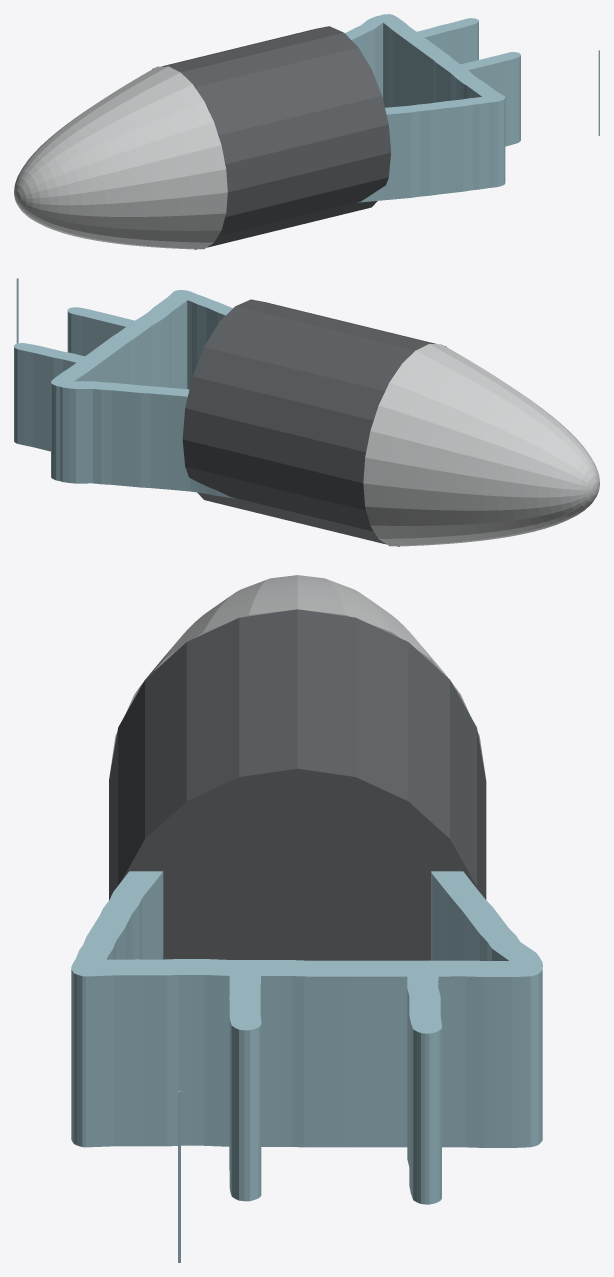
The model's file is Funky Migelo.glb.
The picture shows the model from 3 angles, top to bottom: view 1: azimuth 30°, elevation 25°; view 2: azimuth 150°, elevation 25°; view 3: azimuth 270°, elevation 25°; orthographic projection. The views are drawn at different scales.
Visible parts, largest first — view 1: Mesh_Mesh_head_geo.001_lambert2SG.001; view 2: Mesh_Mesh_head_geo.001_lambert2SG.001; view 3: Mesh_Mesh_head_geo.001_lambert2SG.001.
Boxes of the visible parts, bbox=[...] form: Mesh_Mesh_head_geo.001_lambert2SG.001: bbox=[14, 14, 599, 249]; Mesh_Mesh_head_geo.001_lambert2SG.001: bbox=[14, 278, 599, 546]; Mesh_Mesh_head_geo.001_lambert2SG.001: bbox=[71, 575, 542, 1262].
Size of the model in its own units: 0.0677 by 0.02 by 0.025.
